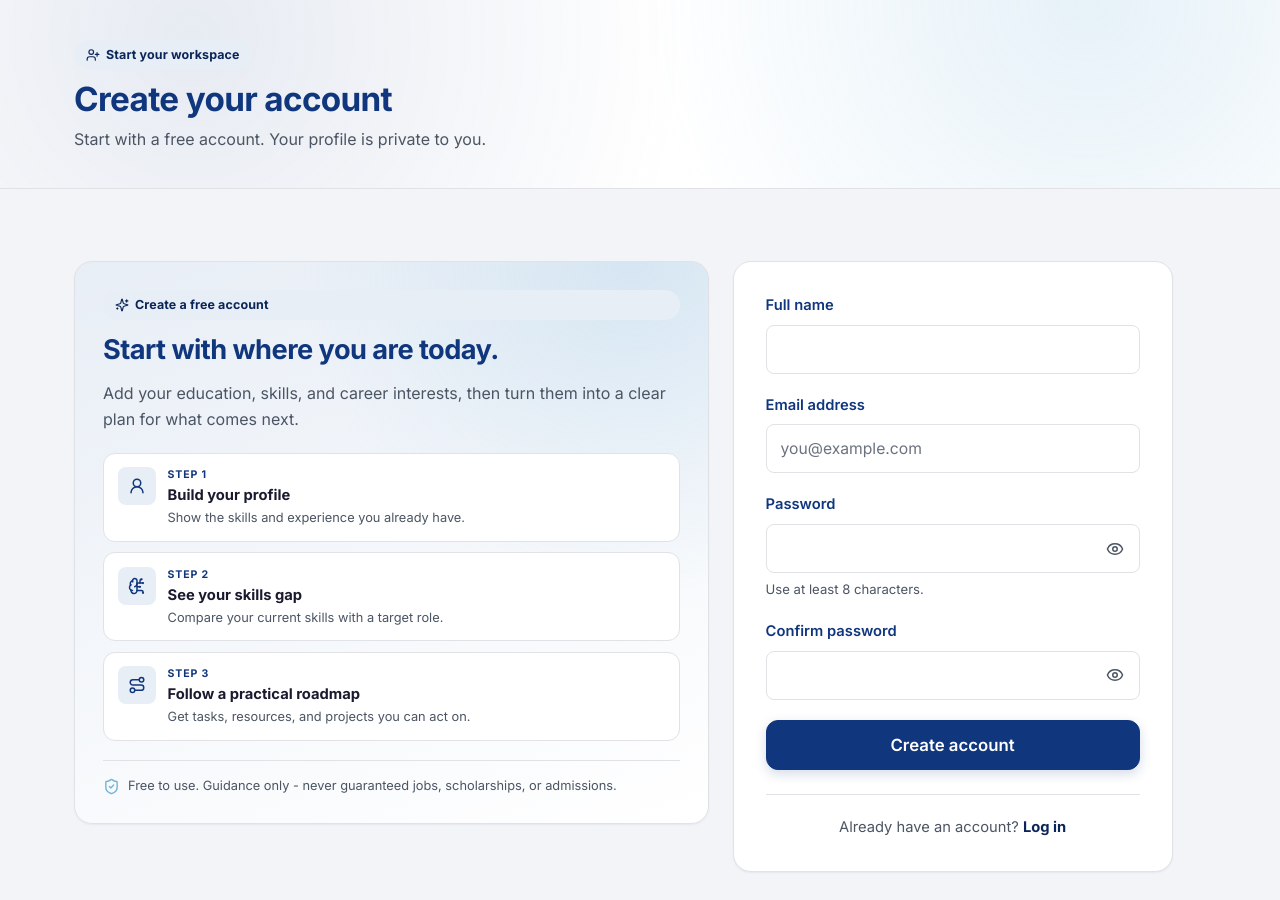
Test case: blocks registration when the passwords do not match
Type "Tariro Moyo" into the field labelled "Full name" at (953, 349), box [766,325,1140,374]
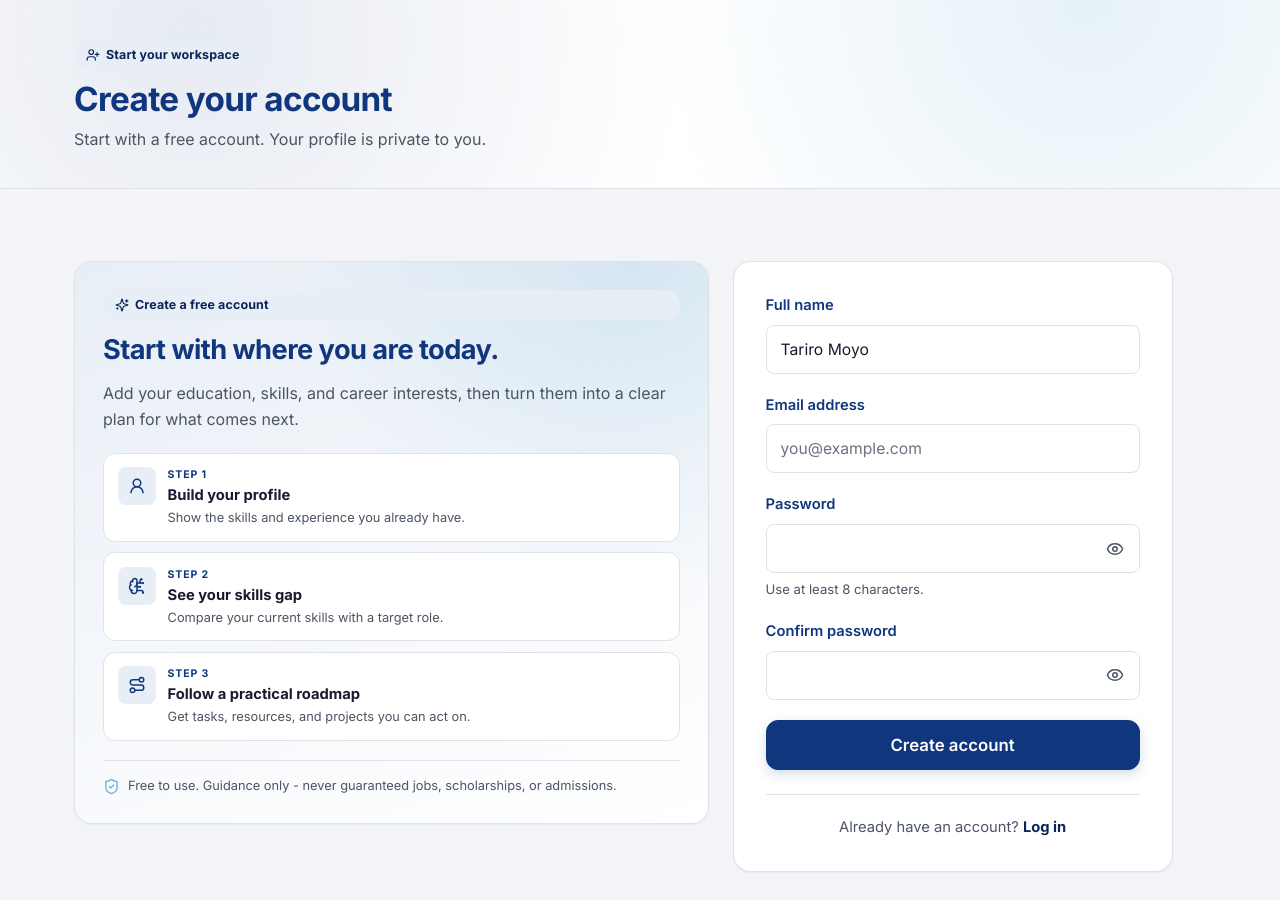
Type "tariro@example.com" into the field labelled "Email address" at (953, 449), box [766,424,1140,474]
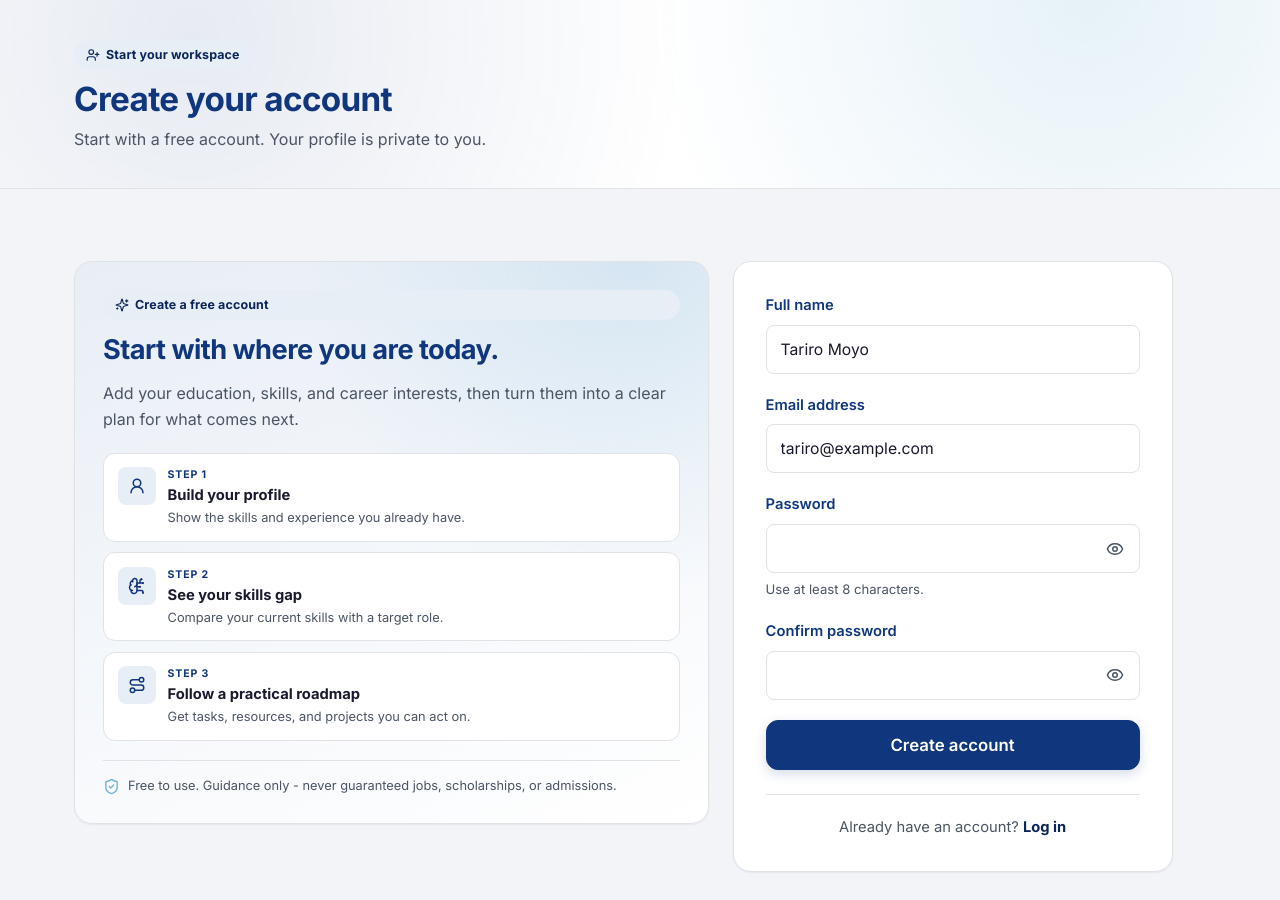
Type "StrongPass123!" into the password field labelled "Password" at (953, 549), box [766,524,1140,573]
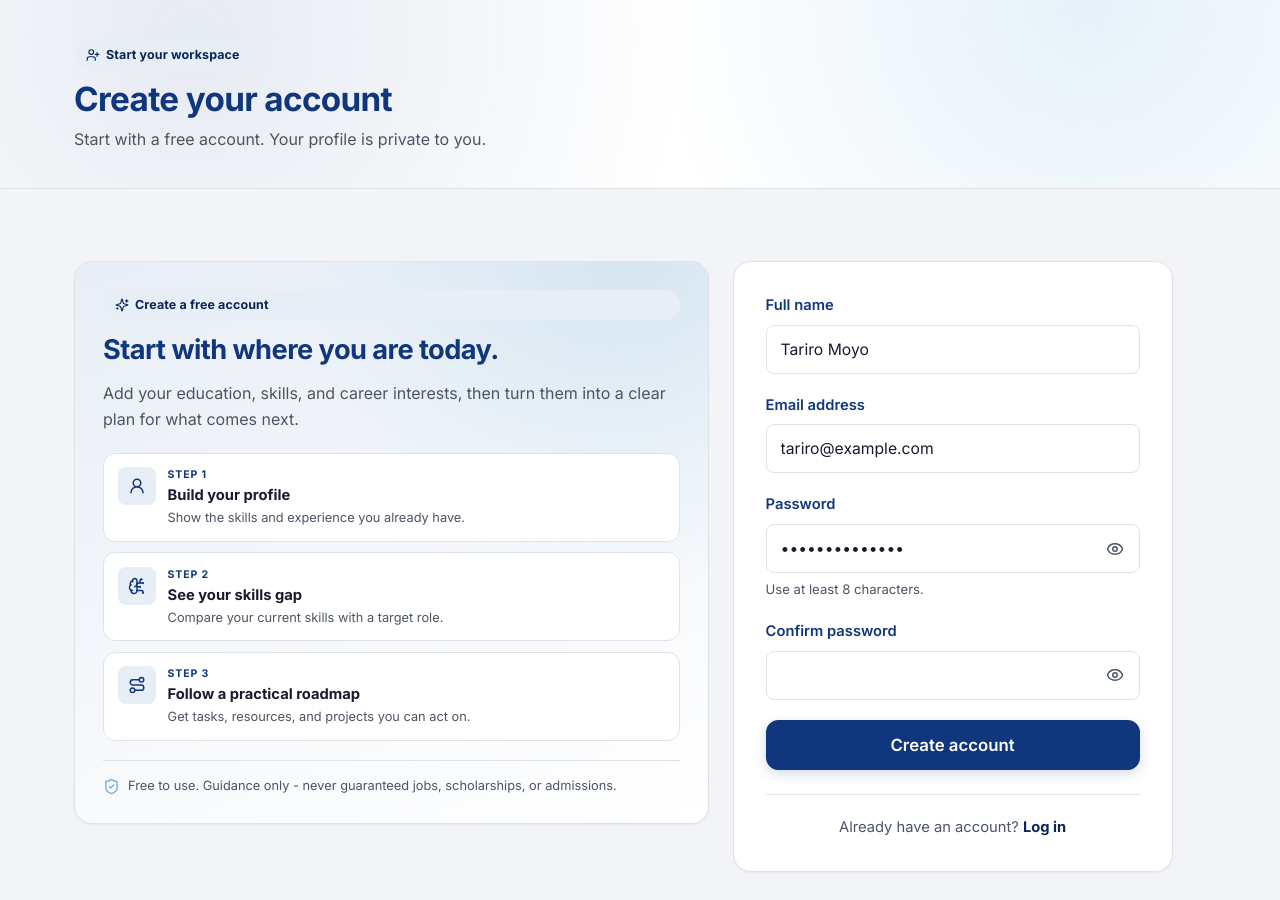
Type "DifferentPass123!" into the password field labelled "Confirm password" at (953, 675), box [766,651,1140,700]
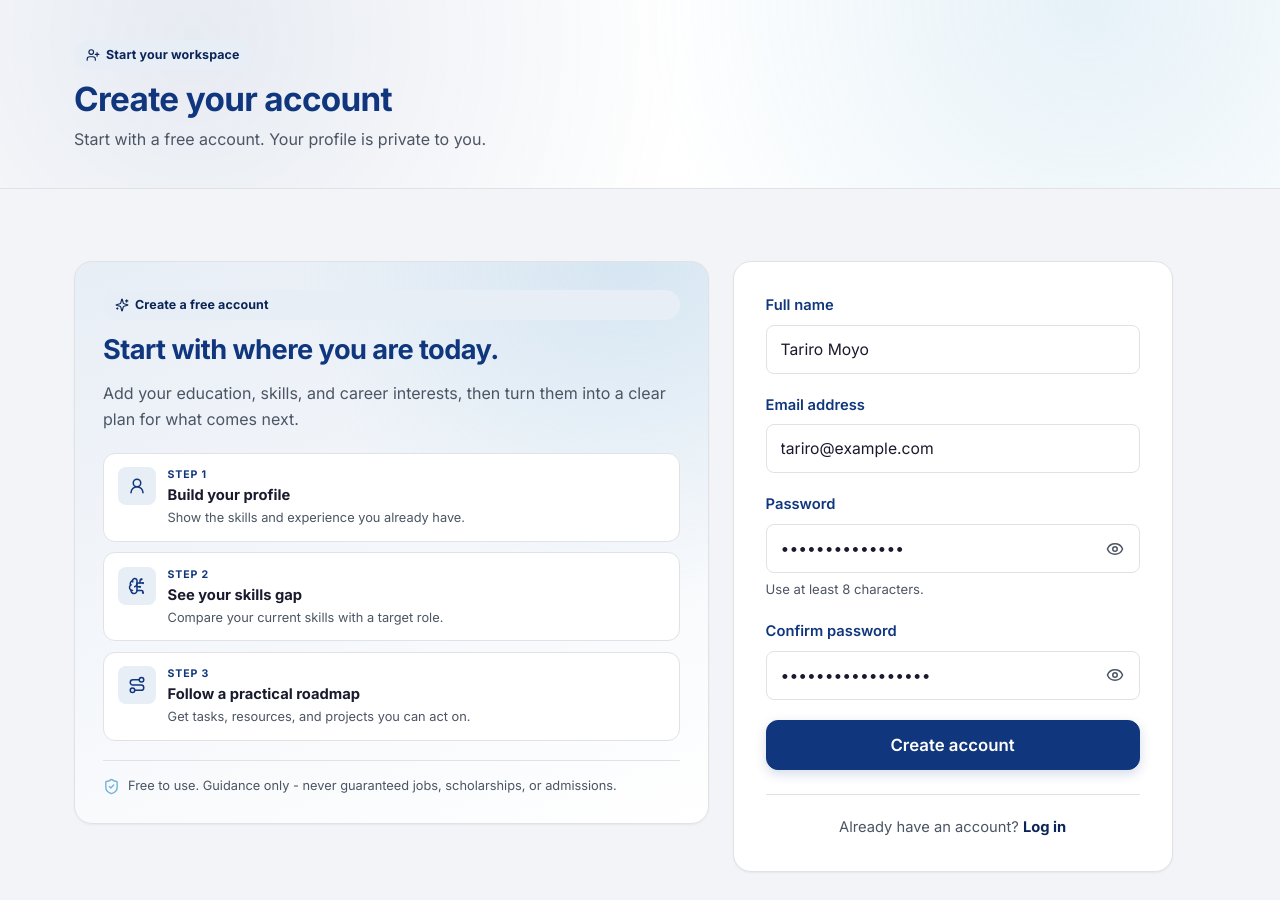
Click the button "Create account" at (953, 745), box [766,720,1140,770]
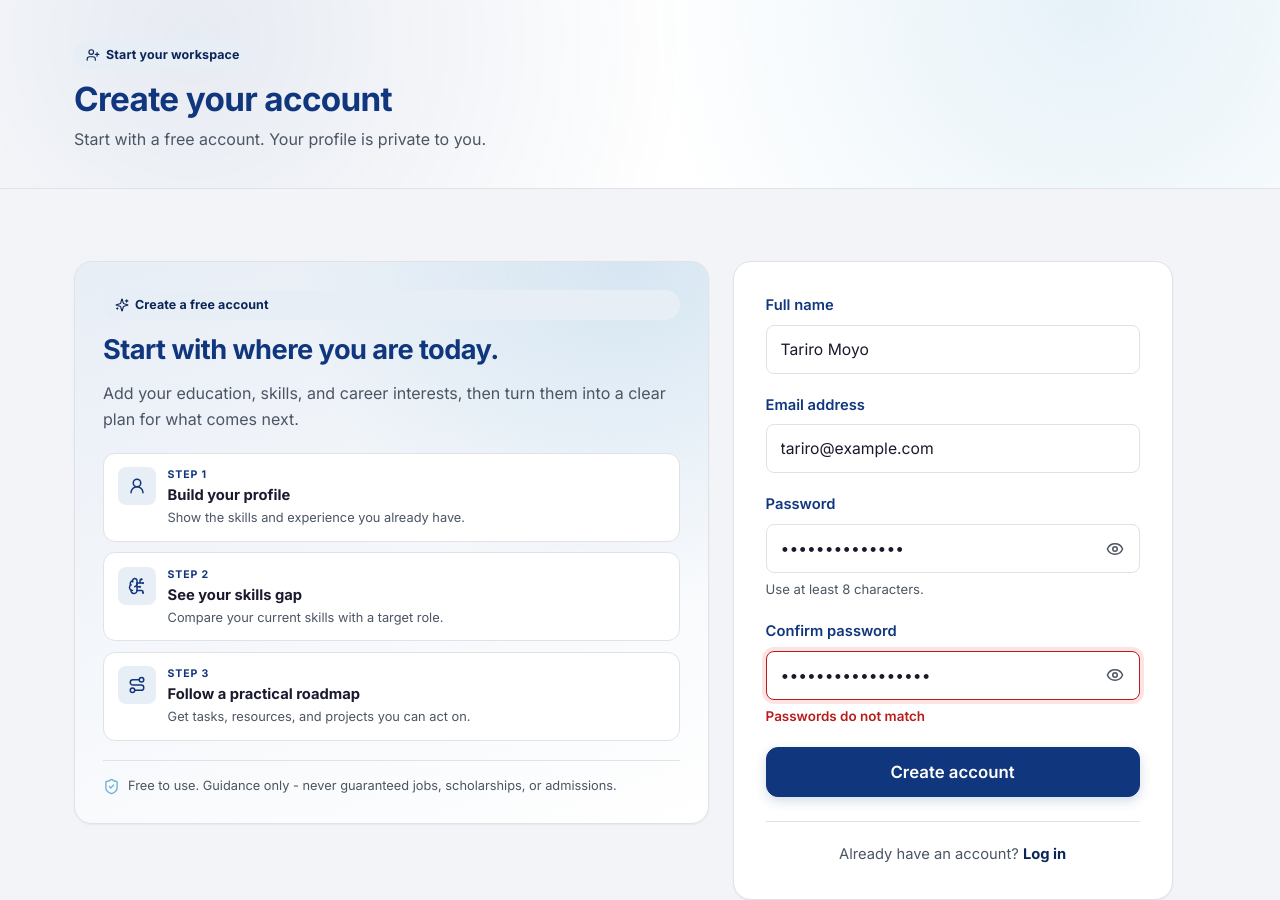
Result: the text "Passwords do not match" is shown at [766,708,925,724]
